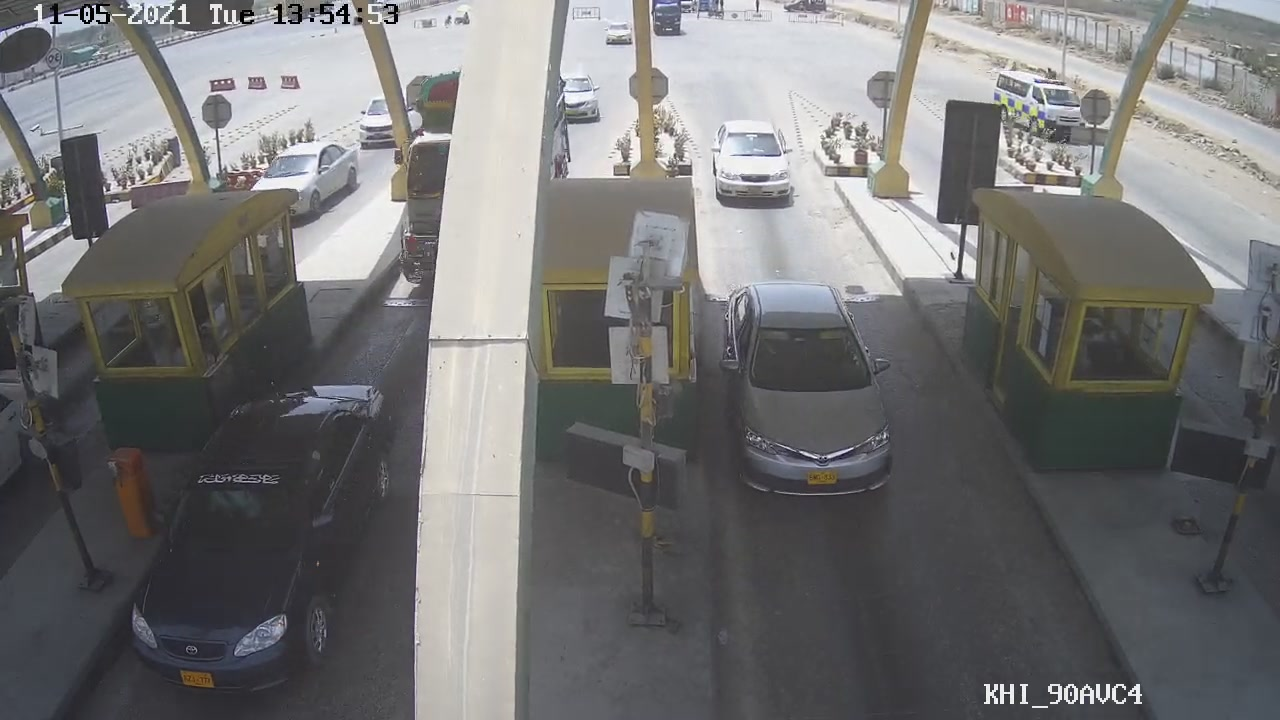F1: (718, 284, 896, 506)
